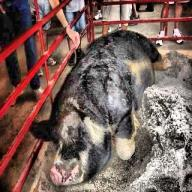boar: (28, 28, 170, 186)
